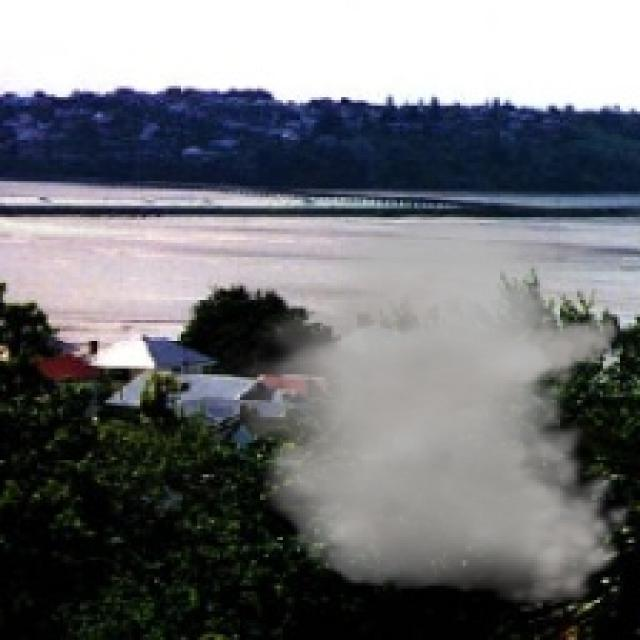Smoke: (208, 217, 632, 606)
